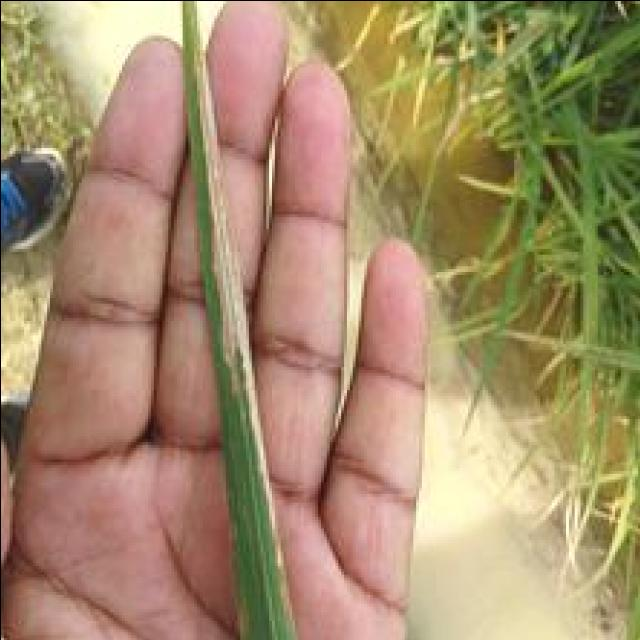Bacterial_Leaf_Blight: (216, 55, 277, 553)
